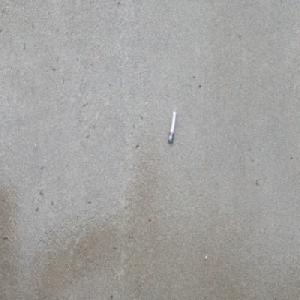Battery: (168, 110, 176, 144)
